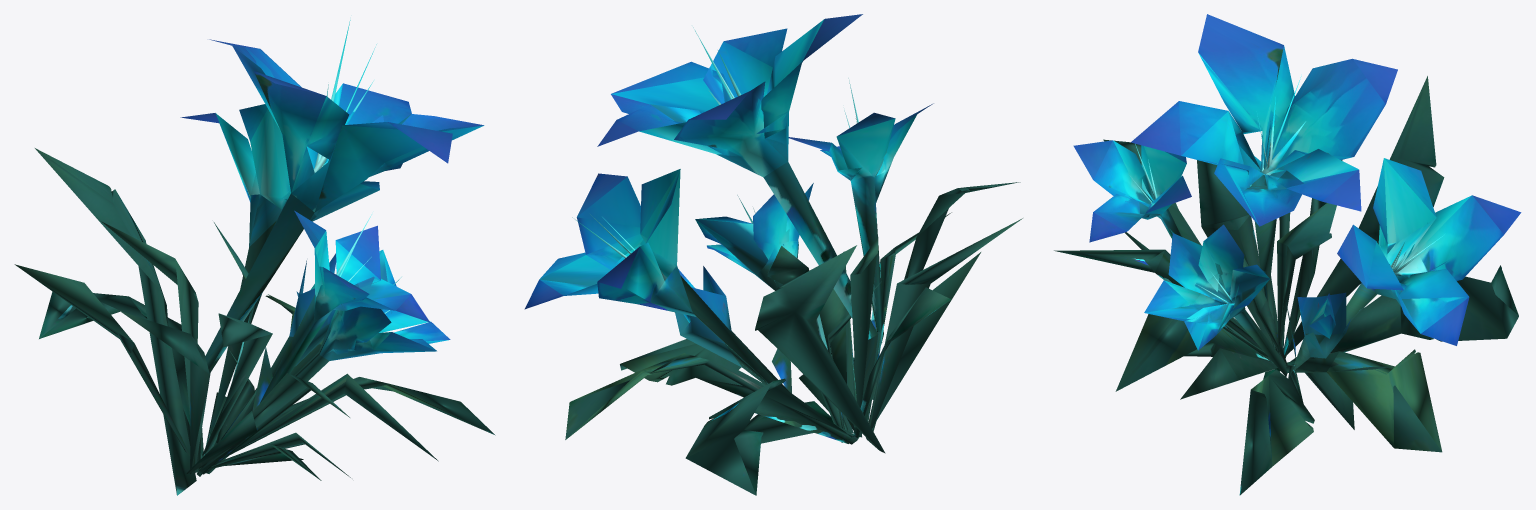
File: GlowFlowers_LOD2.fbx
3 views of the same model, side by side, from view 1: azimuth 30°, elevation 25°; view 2: azimuth 150°, elevation 25°; view 3: azimuth 270°, elevation 25° (orthographic). The views are drawn at different scales.
Parts seen in each view (by area): view 1: GlowFlowers_LOD2; view 2: GlowFlowers_LOD2; view 3: GlowFlowers_LOD2.
Part boxes in pixels (x1,y1,x2,y2): GlowFlowers_LOD2: (14,20,495,495); GlowFlowers_LOD2: (524,14,1022,495); GlowFlowers_LOD2: (1054,14,1521,495).
Size of the model in its own units: 1.41 by 1.38 by 1.54.
